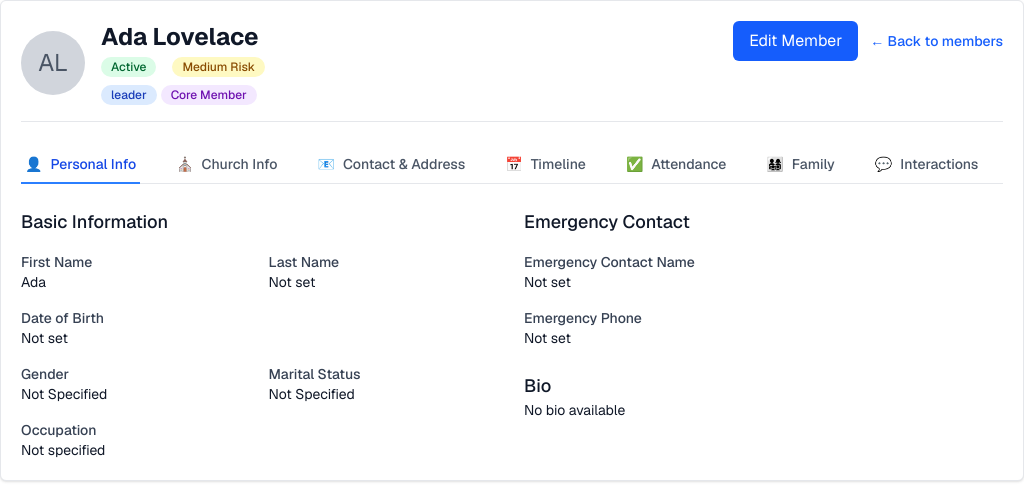
Scenario: MemberProfile › shows a timeline error with a retry
The image size is (1024, 499).
Expected: the heading "Ada Lovelace" is shown, [101,21,265,53]
Click the tab "📅 Timeline" at coordinates (546, 165), box [501,146,590,184]
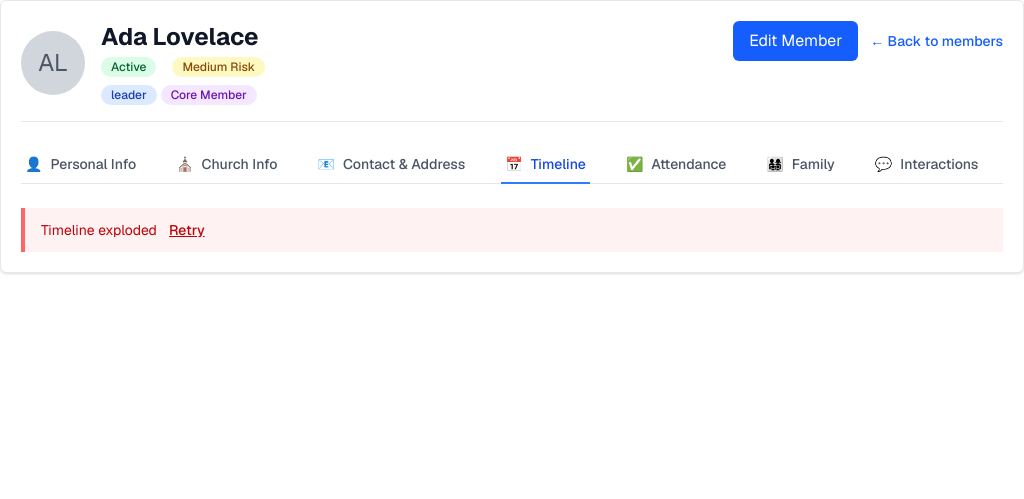
Expected: the message shows "Timeline exploded", [41,221,157,239]
Expected: the button "Retry" is shown, [169,220,205,240]
